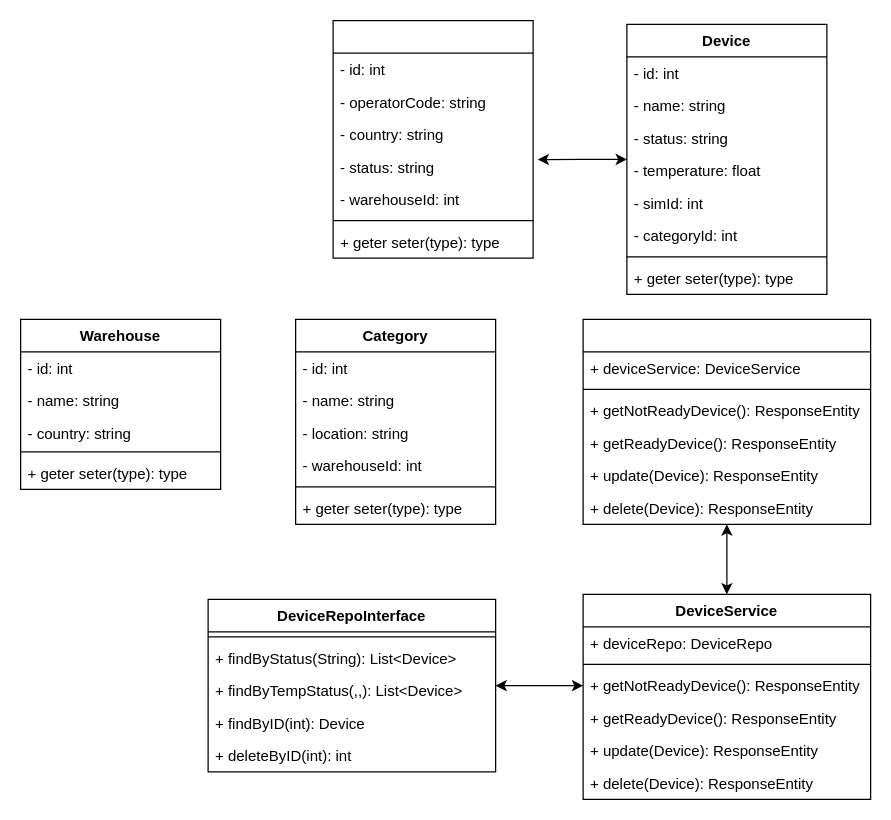
This 891x820 diagram has some shape labels left out. The shapes that lost their labels are listed below. From the top down, each one's box as (x1, y1, x2, y2) in pixels, then its label:
(332, 19, 533, 258): SIM
(582, 318, 871, 524): DeviceController
